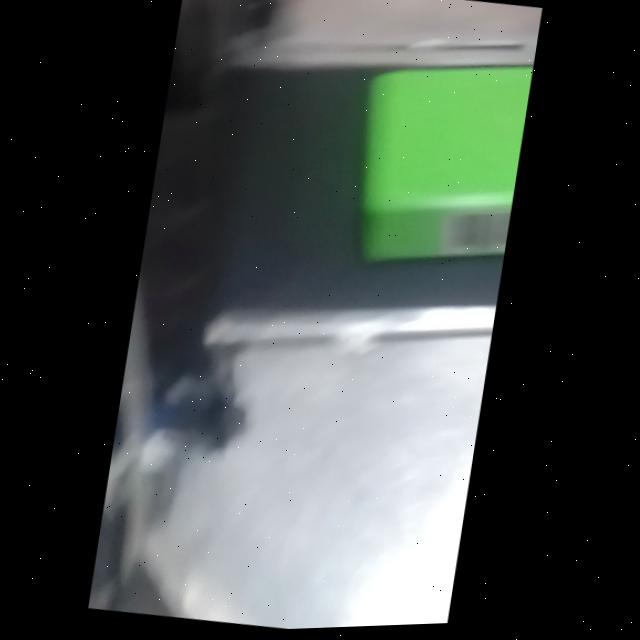greenBox: (333, 28, 537, 303)
